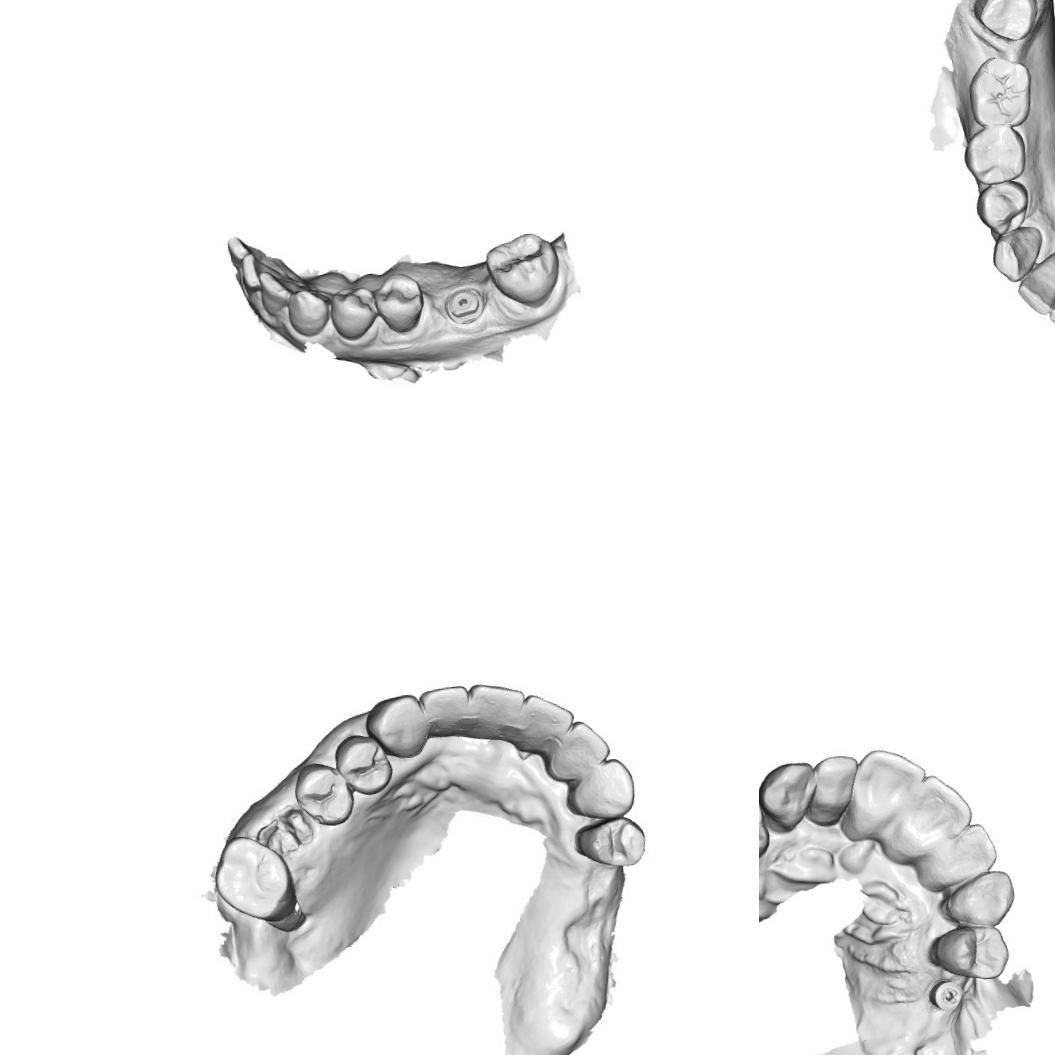canine: (566, 756, 638, 825), (942, 866, 1016, 932), (759, 758, 819, 835), (366, 689, 428, 761), (984, 222, 1044, 288), (284, 284, 334, 340)
crown: (971, 0, 1044, 45)
implant: (440, 280, 488, 326)
implant_plus: (924, 975, 968, 1015)
incisor: (847, 742, 930, 822), (896, 770, 974, 852), (924, 820, 999, 888), (548, 714, 617, 784), (461, 681, 527, 749), (808, 750, 864, 816), (520, 687, 580, 747), (418, 678, 469, 730), (1015, 258, 1055, 315), (238, 247, 284, 294), (256, 266, 294, 319)
molar: (209, 830, 300, 926), (481, 228, 565, 311), (962, 53, 1036, 131)
premolar: (930, 920, 1012, 984), (290, 754, 354, 830), (578, 812, 650, 874), (332, 730, 394, 798), (370, 268, 426, 336), (965, 123, 1027, 182), (325, 284, 382, 345), (976, 181, 1032, 233)
